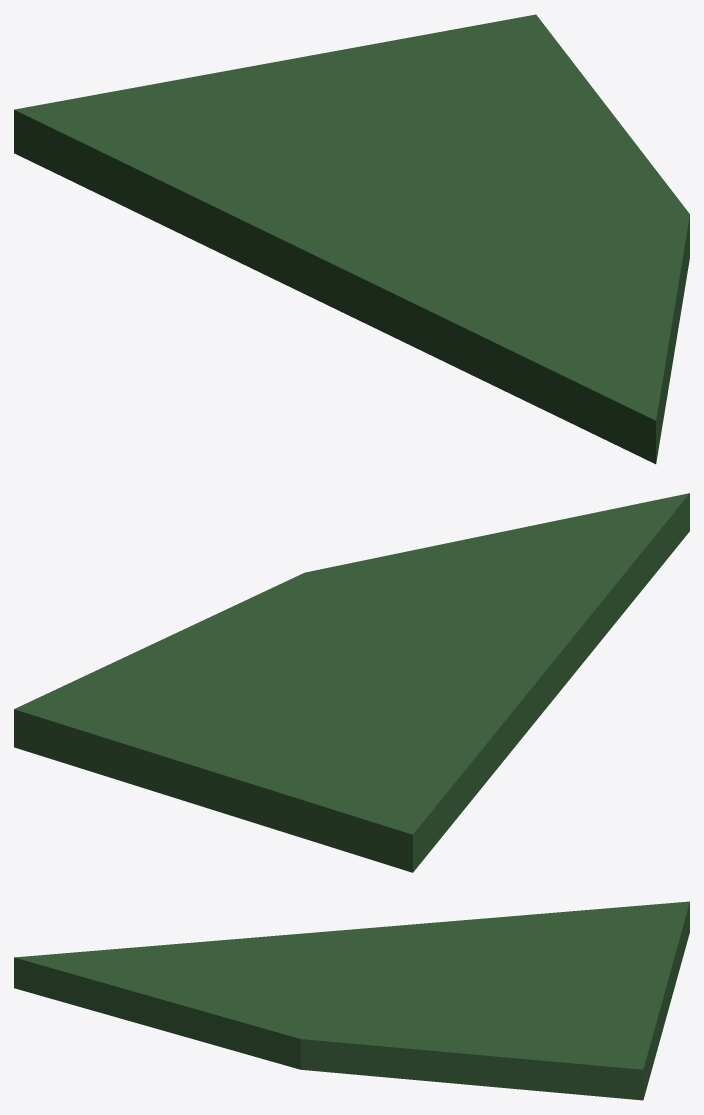
The model's file is x_proval_00_148_1_rmstrd.fbx.
The picture shows the model from 3 angles, top to bottom: view 1: azimuth 30°, elevation 25°; view 2: azimuth 150°, elevation 25°; view 3: azimuth 270°, elevation 25°; orthographic projection. The views are drawn at different scales.
Parts seen in each view (by area): view 1: x_proval_00_148_1_rmstrd1; view 2: x_proval_00_148_1_rmstrd1; view 3: x_proval_00_148_1_rmstrd1.
Boxes of the visible parts, left/top/right/bottom form: x_proval_00_148_1_rmstrd1: left=14, top=14, right=689, bottom=464; x_proval_00_148_1_rmstrd1: left=14, top=493, right=689, bottom=872; x_proval_00_148_1_rmstrd1: left=14, top=901, right=689, bottom=1100.
Bounding box in the file's own units: 2.35 × 0.2 × 3.98.
